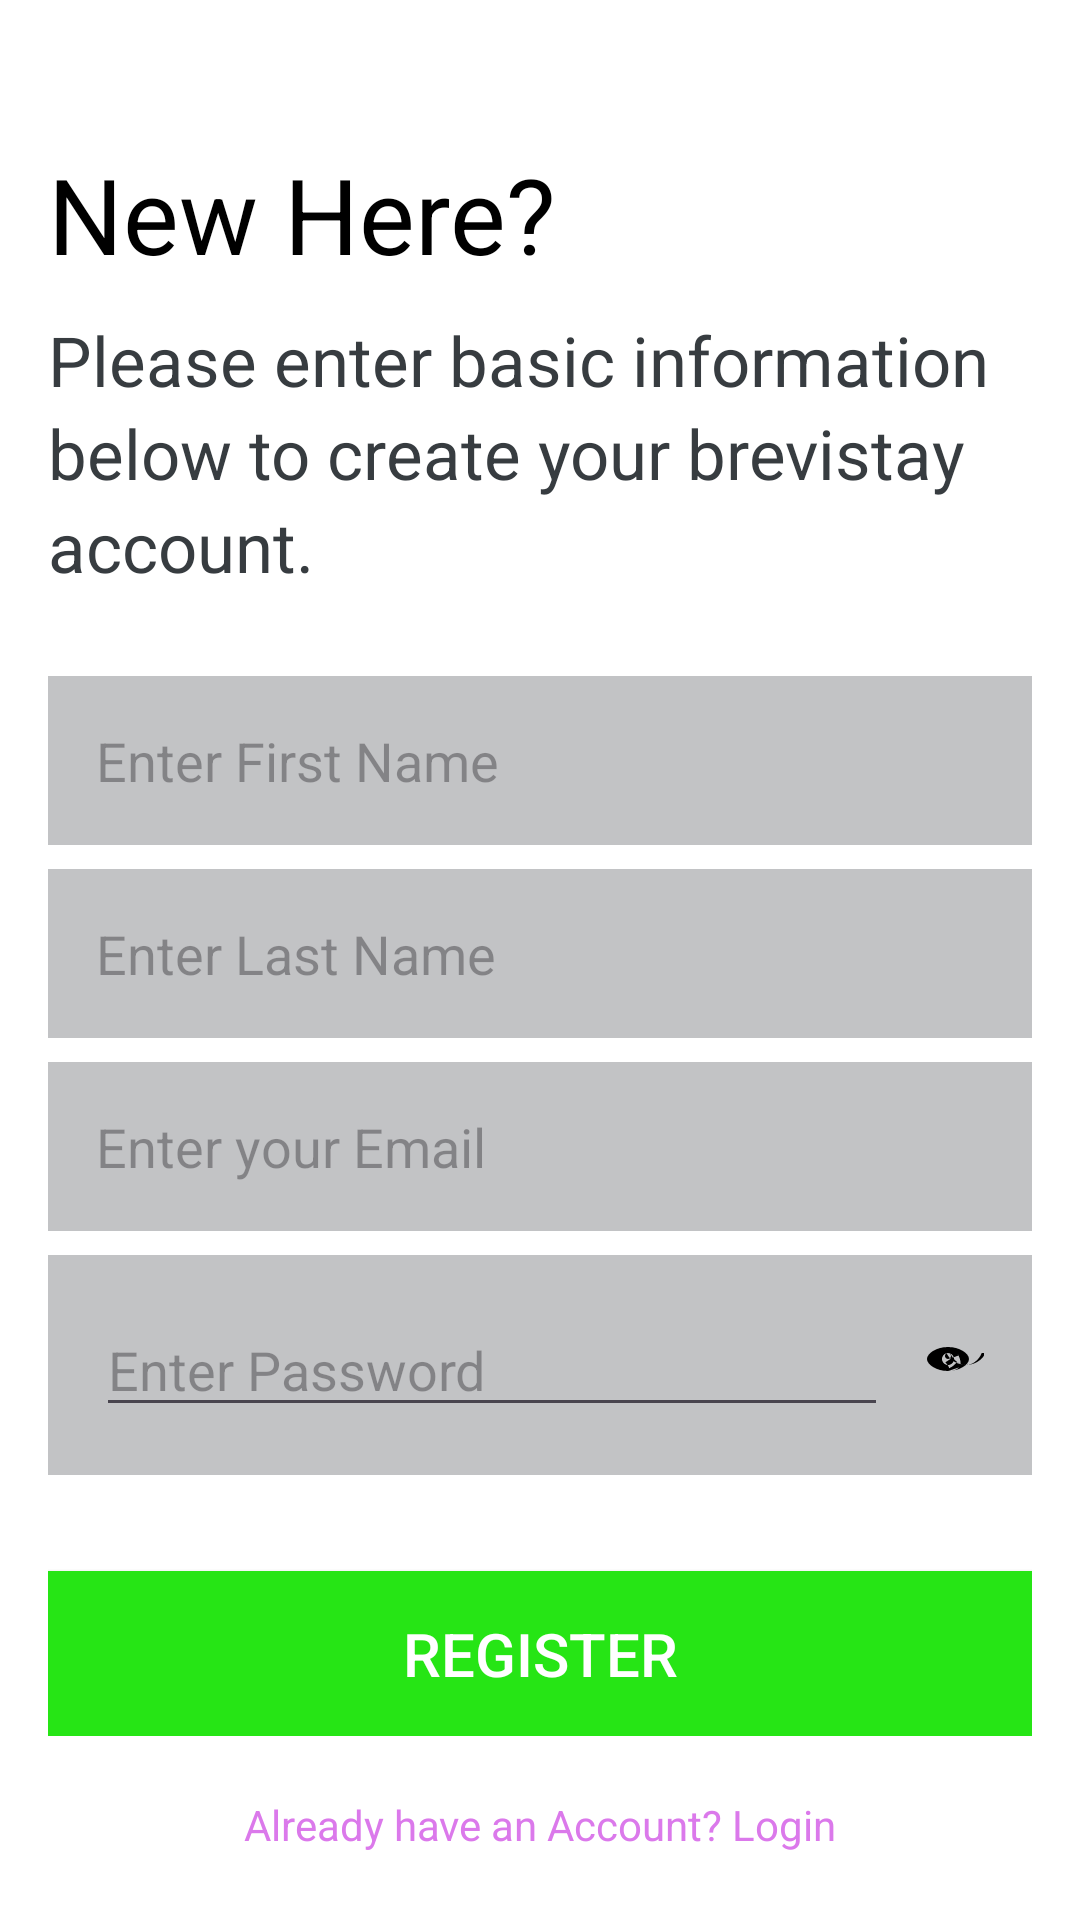

Named icons in this screenshot (1080 × 1920) and their centers, point (x, y):
Toggle Password Visibility: point (955, 1359)
